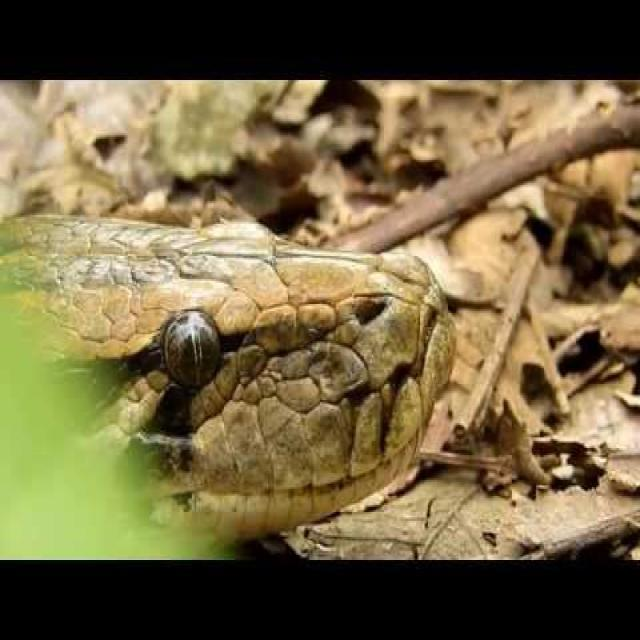Snake: (0, 207, 458, 562)
